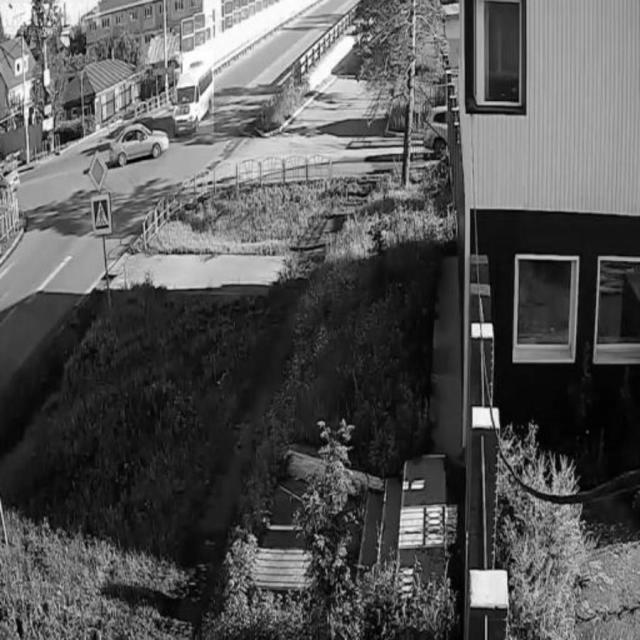vehicle: (175, 51, 213, 133), (111, 134, 166, 166)
